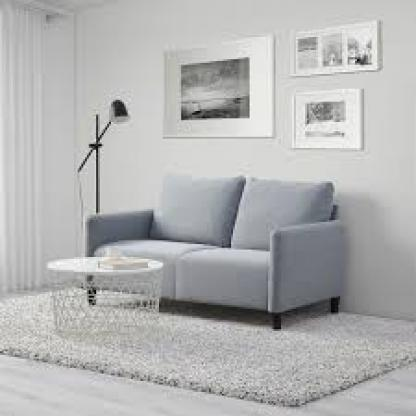sofa: (81, 178, 364, 322)
